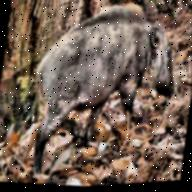boar: (8, 0, 187, 191)
